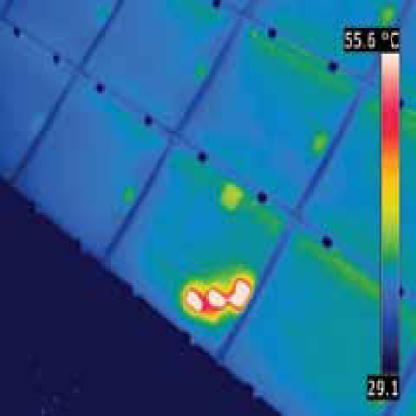Defects: (184, 290, 206, 314), (230, 280, 245, 306), (209, 292, 224, 310)
